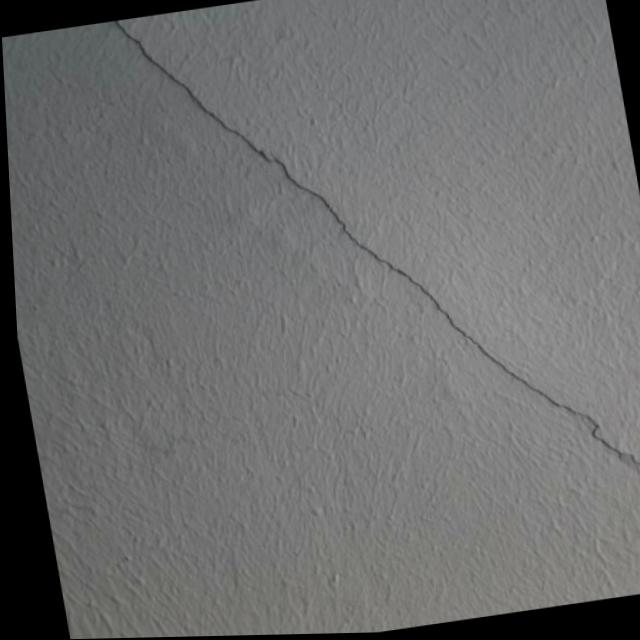Crack: (103, 0, 640, 598)
